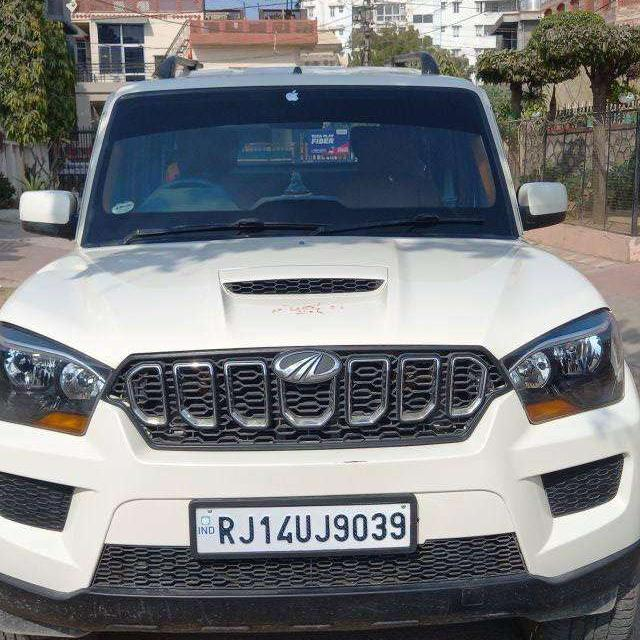Indian_Number_Plate: (188, 500, 415, 559)
